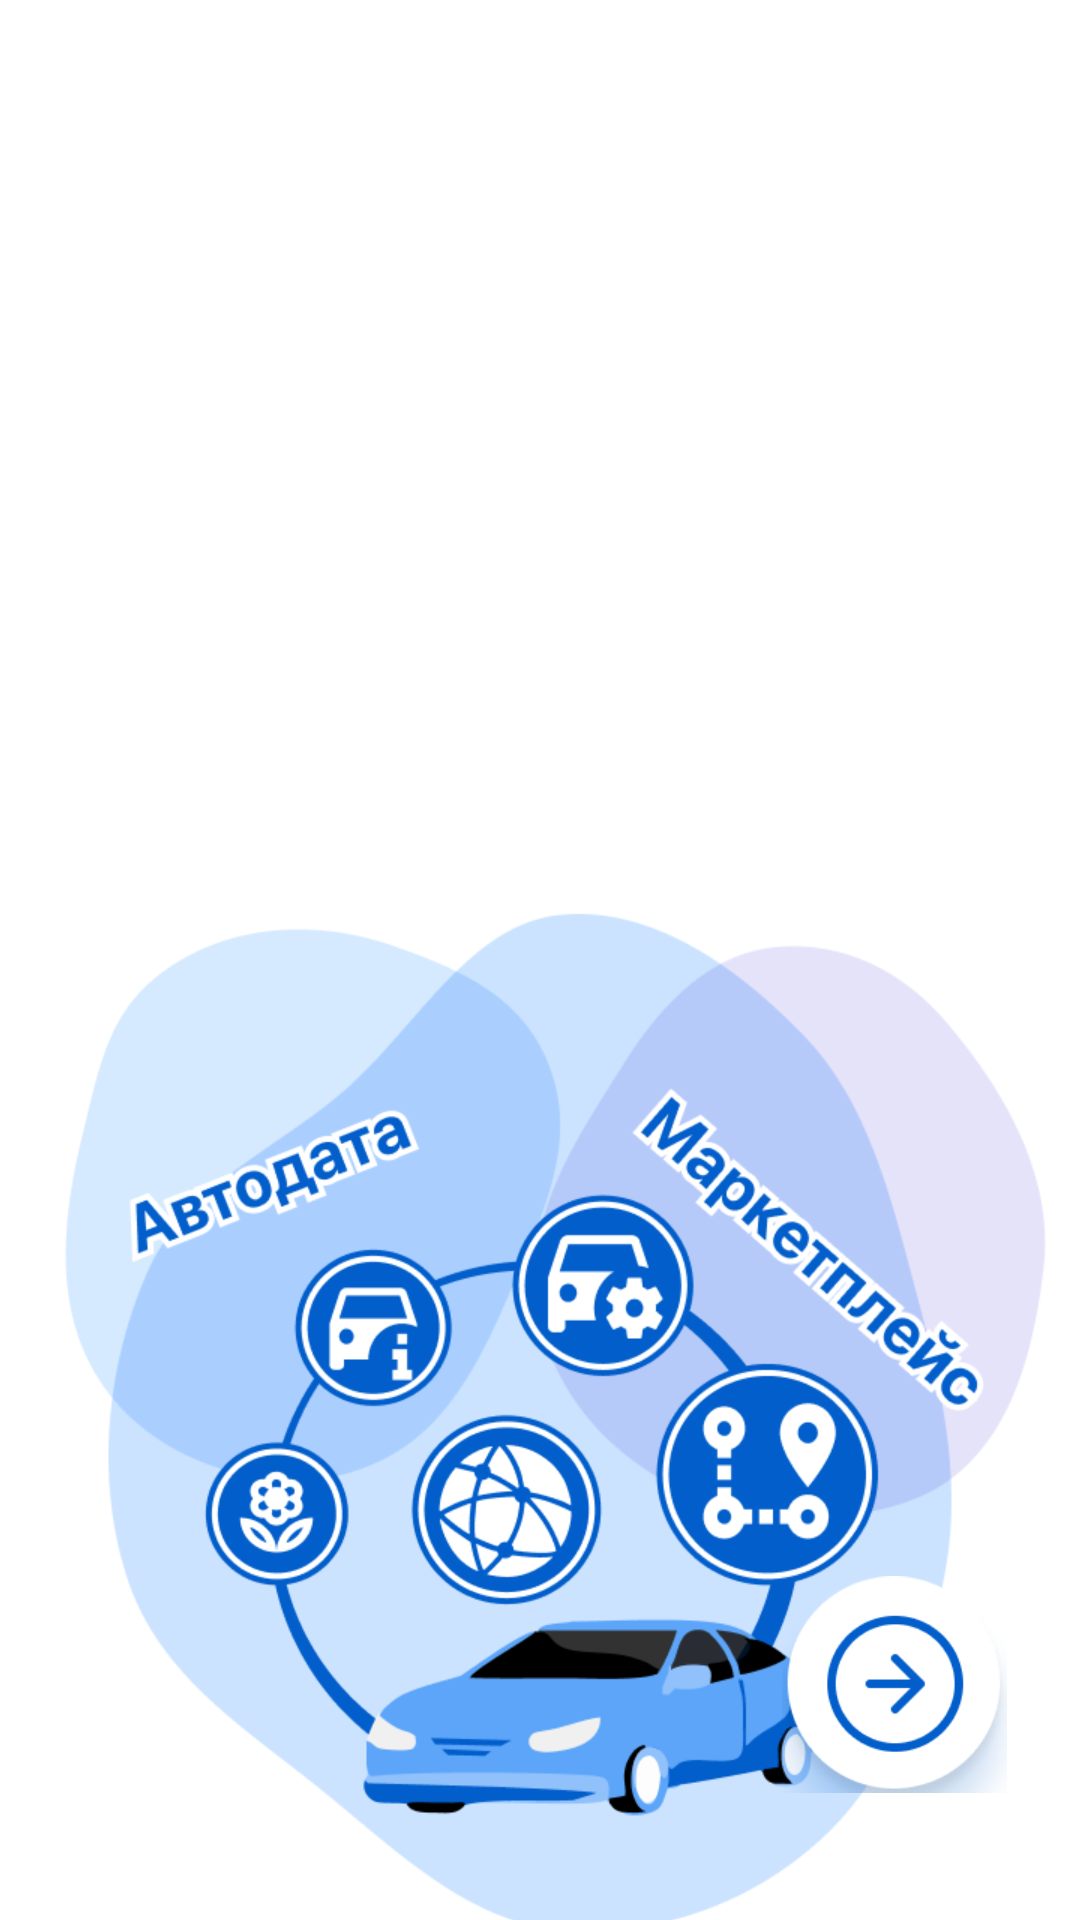

Screen size 1080px×1920px. Icon name, then its center in pixels as (x=x, y=y):
Кнопка далее: (x=894, y=1684)
